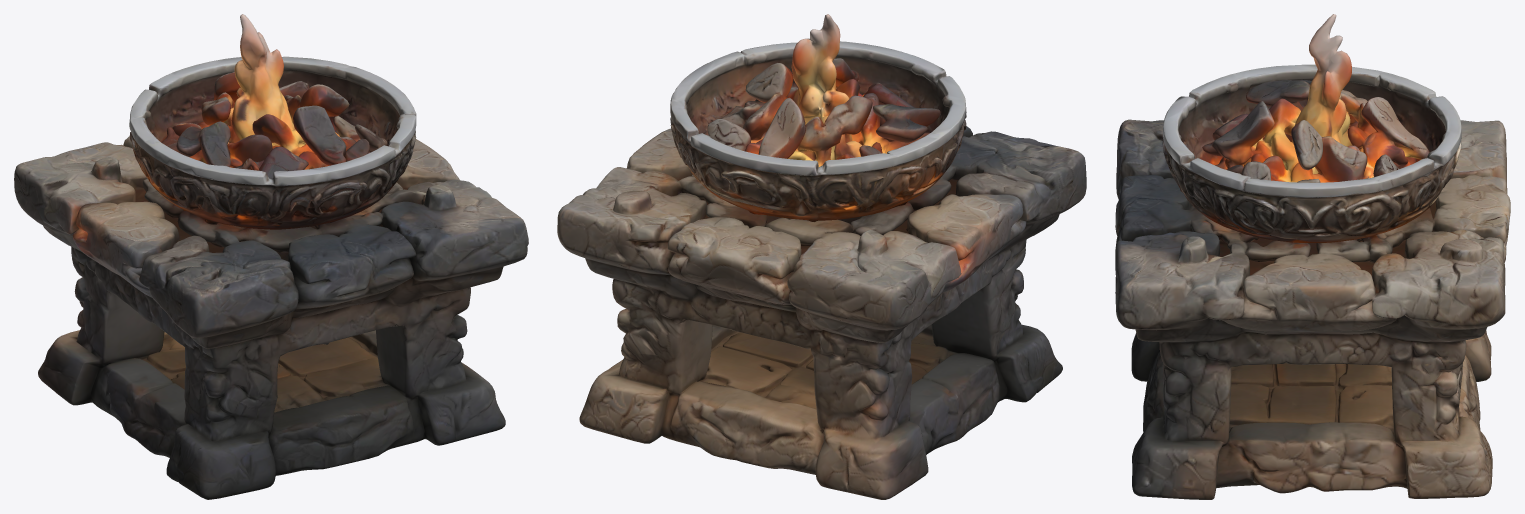
File: prop-brazier.glb
3 views of the same model, side by side, from view 1: azimuth 30°, elevation 25°; view 2: azimuth 150°, elevation 25°; view 3: azimuth 270°, elevation 25° (orthographic). The views are drawn at different scales.
Visible parts, largest first — view 1: tripo_node_6edb8592-108f-49a1-9658-5b23e98e9929; view 2: tripo_node_6edb8592-108f-49a1-9658-5b23e98e9929; view 3: tripo_node_6edb8592-108f-49a1-9658-5b23e98e9929.
Boxes of the visible parts, x1,y1,x2,y2 form: tripo_node_6edb8592-108f-49a1-9658-5b23e98e9929: (14, 14, 528, 499); tripo_node_6edb8592-108f-49a1-9658-5b23e98e9929: (557, 14, 1086, 499); tripo_node_6edb8592-108f-49a1-9658-5b23e98e9929: (1115, 14, 1510, 499).
Size of the model in its own units: 1.37 by 1.5 by 1.33.
Materials: 1 (1 with a texture image).
